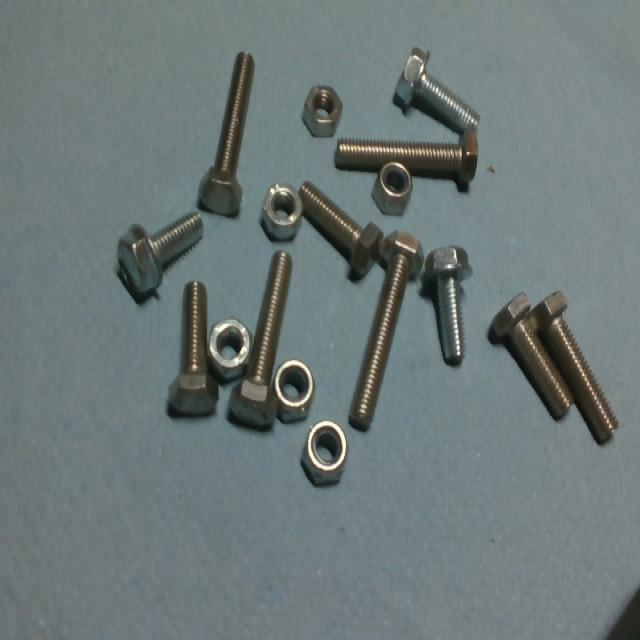Bolt: (347, 231, 423, 431), (523, 291, 619, 443), (486, 293, 575, 423), (229, 251, 292, 429), (197, 52, 254, 213), (335, 129, 477, 189), (298, 181, 384, 277), (116, 212, 204, 301), (394, 48, 480, 136), (168, 281, 217, 413), (425, 247, 472, 368)
Nut: (299, 421, 350, 489), (273, 361, 314, 427), (208, 319, 250, 380), (370, 163, 413, 219), (261, 184, 303, 241), (301, 85, 342, 136)
